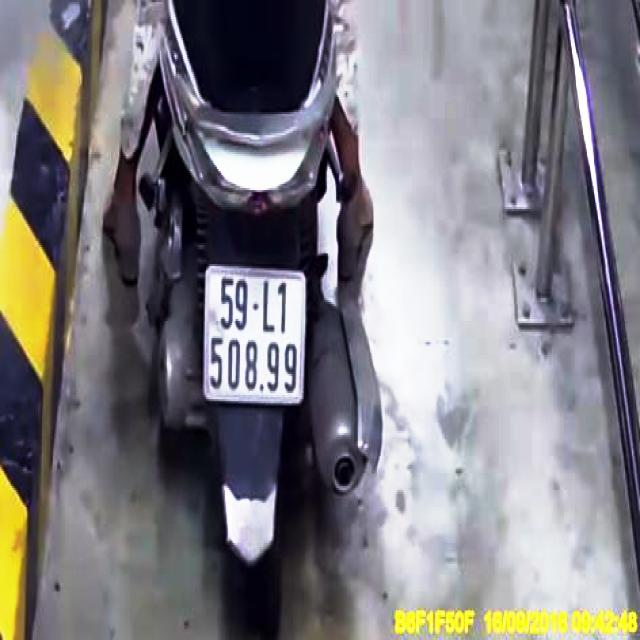license_plate: (208, 271, 304, 403)
